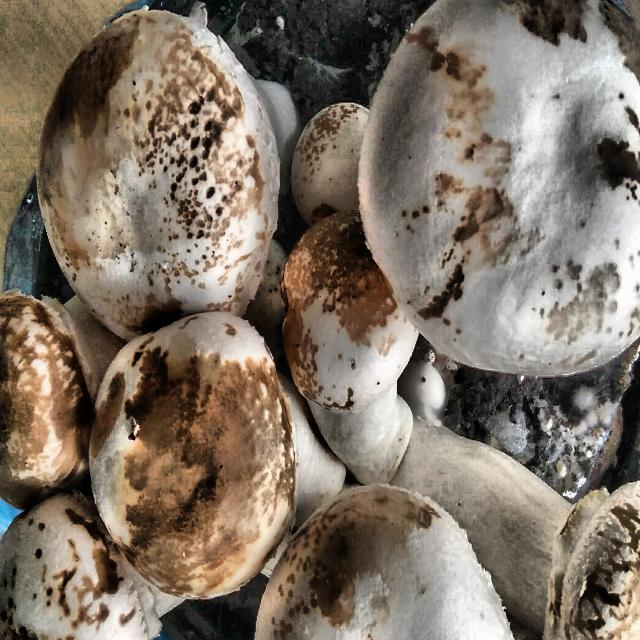Affected: (526, 4, 640, 196), (146, 401, 279, 554), (308, 547, 462, 640), (56, 46, 169, 154), (310, 243, 420, 348), (0, 365, 60, 456)
